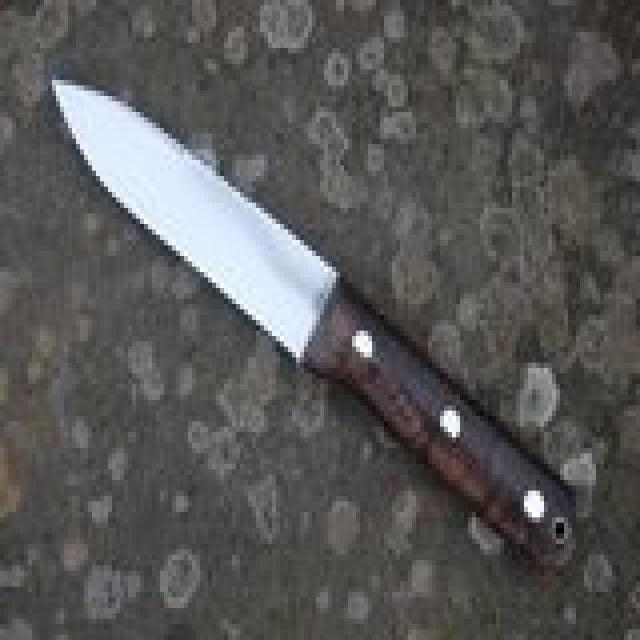Knife: (53, 60, 580, 558)
